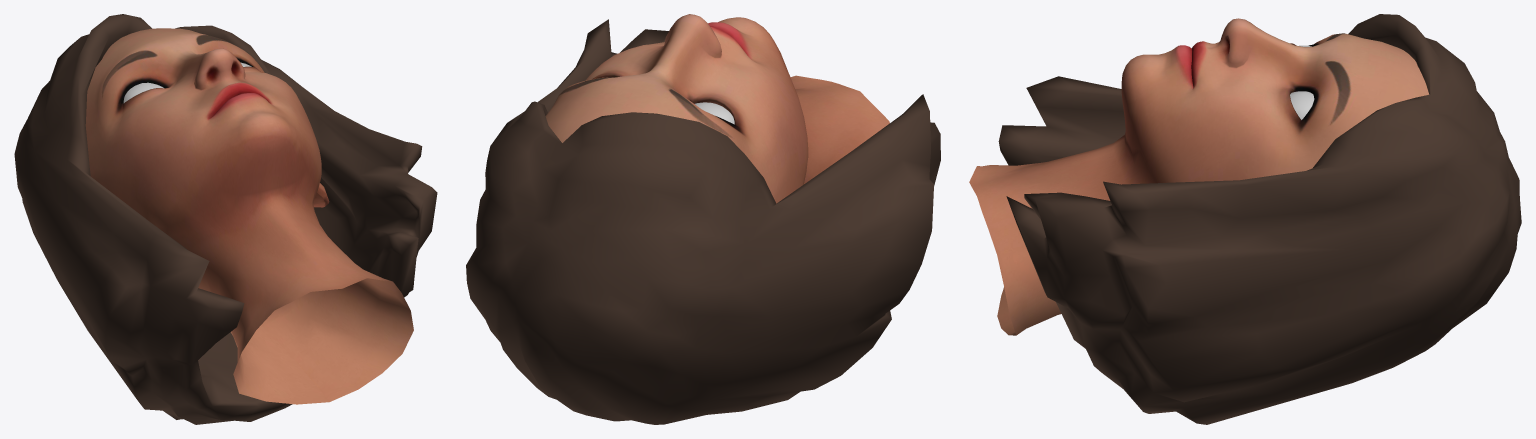
Rendered from Female_Argentina_Head.fbx.
3 views of the same model, side by side, from view 1: azimuth 30°, elevation 25°; view 2: azimuth 150°, elevation 25°; view 3: azimuth 270°, elevation 25° (orthographic). The views are drawn at different scales.
Parts seen in each view (by area): view 1: Wolf3D_Head, Wolf3D_Hair; view 2: Wolf3D_Hair, Wolf3D_Head; view 3: Wolf3D_Hair, Wolf3D_Head.
Part boxes in pixels (x1=…): Wolf3D_Head: x1=85, y1=28, x2=413, y2=404; Wolf3D_Hair: x1=14, y1=14, x2=437, y2=424; Wolf3D_Hair: x1=466, y1=19, x2=940, y2=424; Wolf3D_Head: x1=545, y1=14, x2=889, y2=203; Wolf3D_Hair: x1=998, y1=14, x2=1521, y2=424; Wolf3D_Head: x1=969, y1=18, x2=1429, y2=335.
Bounding box in the file's own units: 23.44 × 25.59 × 33.22.
